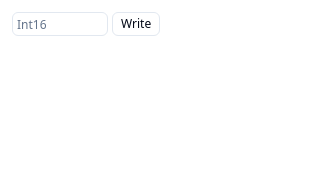
Test: WriteControl › shows sent and clears the input on success
The image size is (332, 172).
Type "7" into the number field named "Value for speed" at (60, 24), box [12,12,108,36]
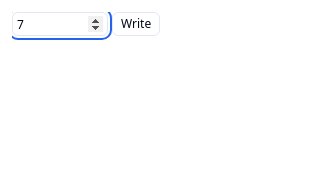
Click the button "Write" at (136, 24), box [112,12,160,36]
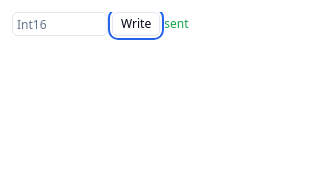
expect the text "sent" is shown: met, box [164,16,188,32]
expect the number field named "Value for speed" is not empty: met, box [12,12,108,36]
